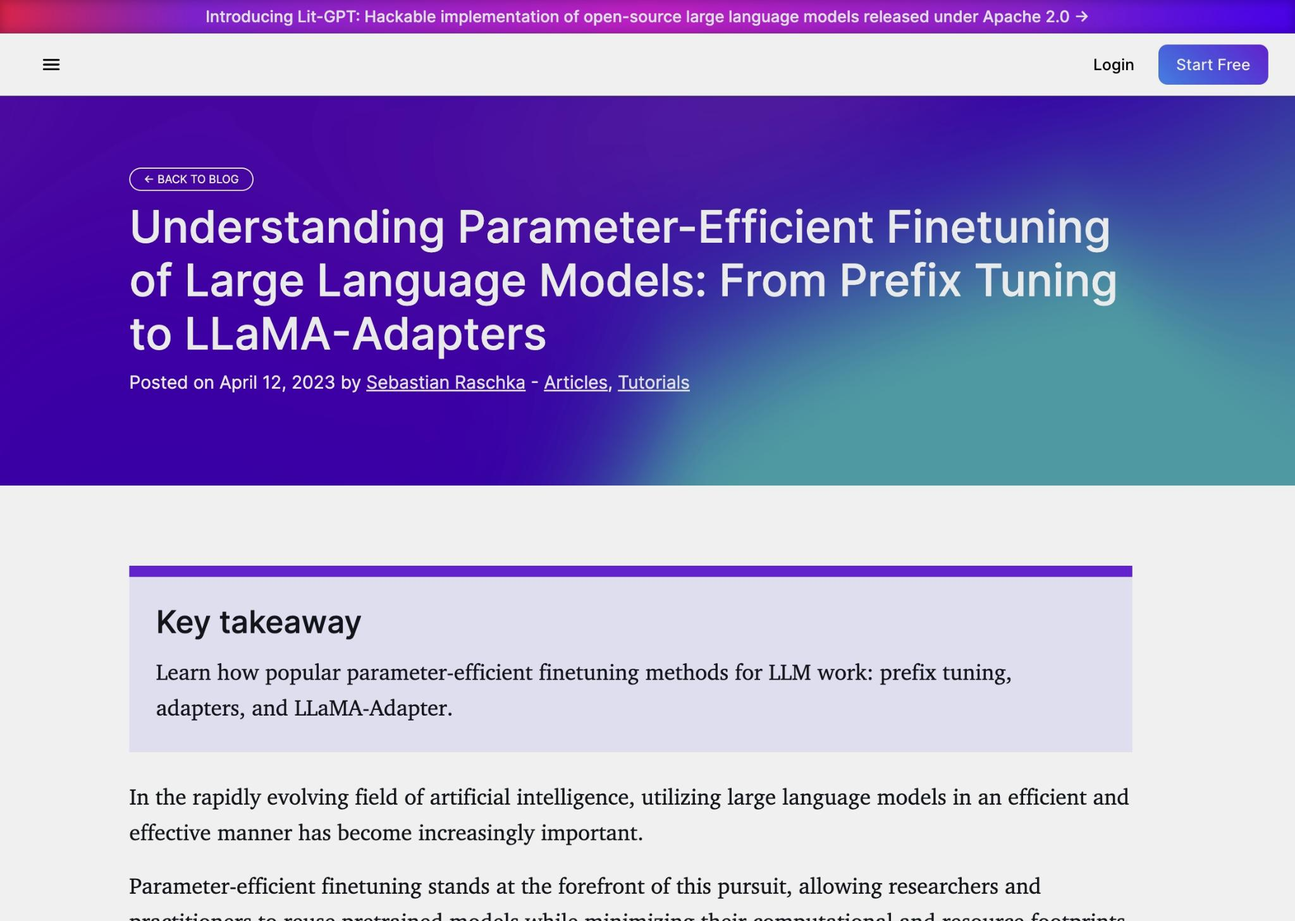webelement: (0, 95, 1294, 921), (128, 782, 1127, 845), (128, 871, 1130, 921), (205, 0, 1089, 33), (128, 369, 1164, 396), (365, 371, 525, 393), (129, 167, 252, 191), (617, 371, 689, 393), (543, 371, 606, 393)
